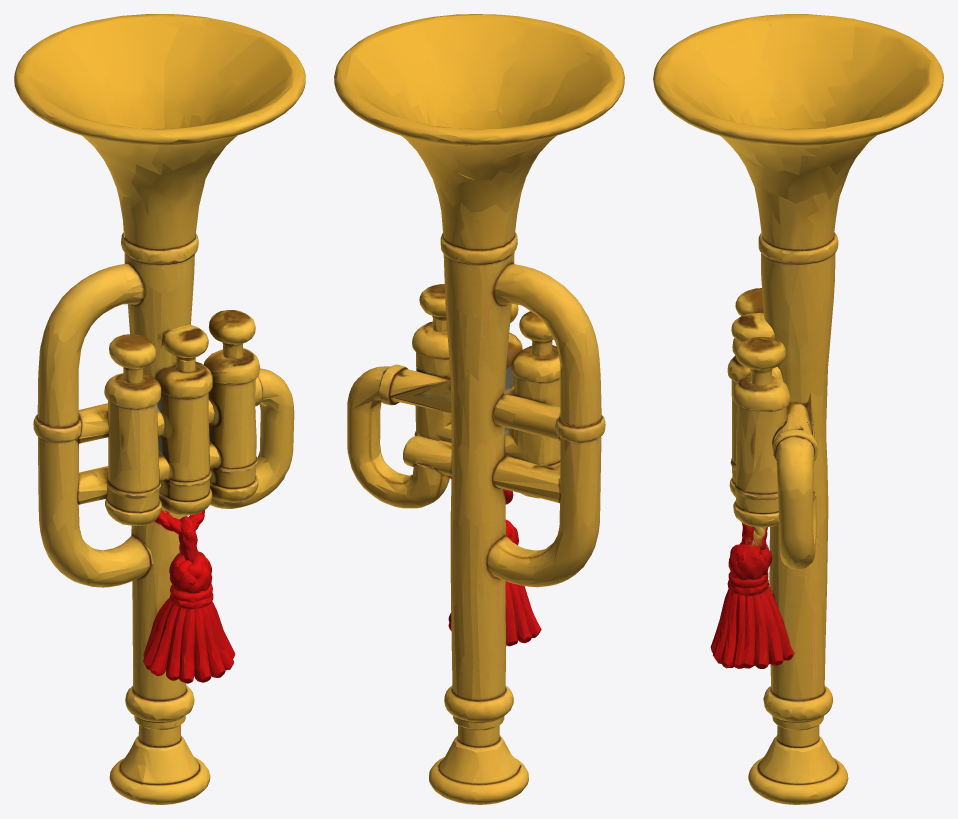
Rendered from toot_trumpet.glb.
3 views of the same model, side by side, from view 1: azimuth 30°, elevation 25°; view 2: azimuth 150°, elevation 25°; view 3: azimuth 270°, elevation 25° (orthographic).
Parts seen in each view (by area): view 1: Mesh_0; view 2: Mesh_0; view 3: Mesh_0.
Part boxes in pixels (x1,y1,x2,y2): Mesh_0: (14, 14, 305, 804); Mesh_0: (334, 14, 624, 804); Mesh_0: (653, 14, 943, 804).
Size of the model in its own units: 0.3749 by 1 by 0.3666.
1 material, 1 textured.
